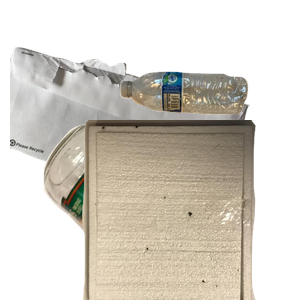glass: (41, 120, 281, 300)
paper: (10, 45, 250, 225)
plastic: (118, 69, 300, 176)
trash: (80, 120, 300, 300)
